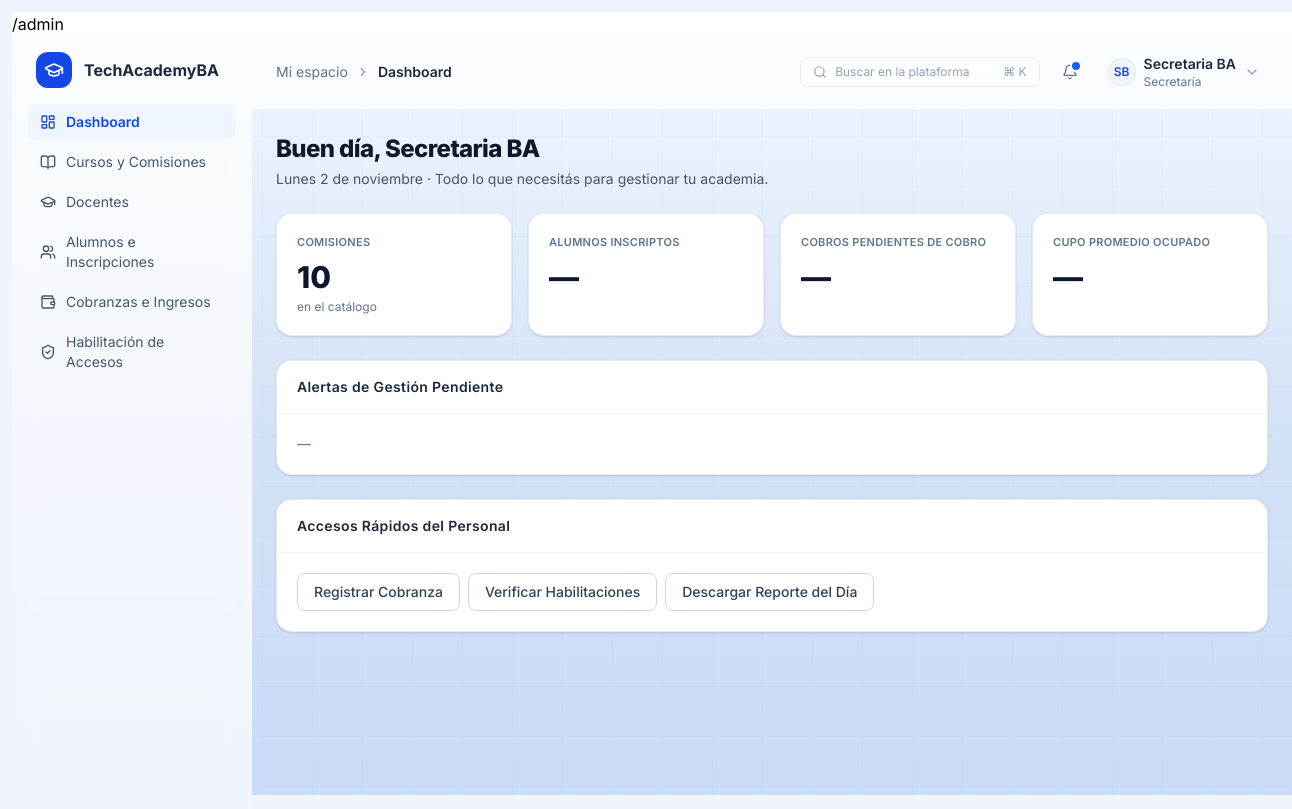
las pantallas de cada shell dibujan con los componentes compartidos › la sección de ADMIN cierra la sesión con el botón compartido del menú de perfil
The width and height of the screenshot is (1292, 809).
Click the button "SB Secretaria BA Secretaría" at (1184, 72), box [1100,48,1268,96]
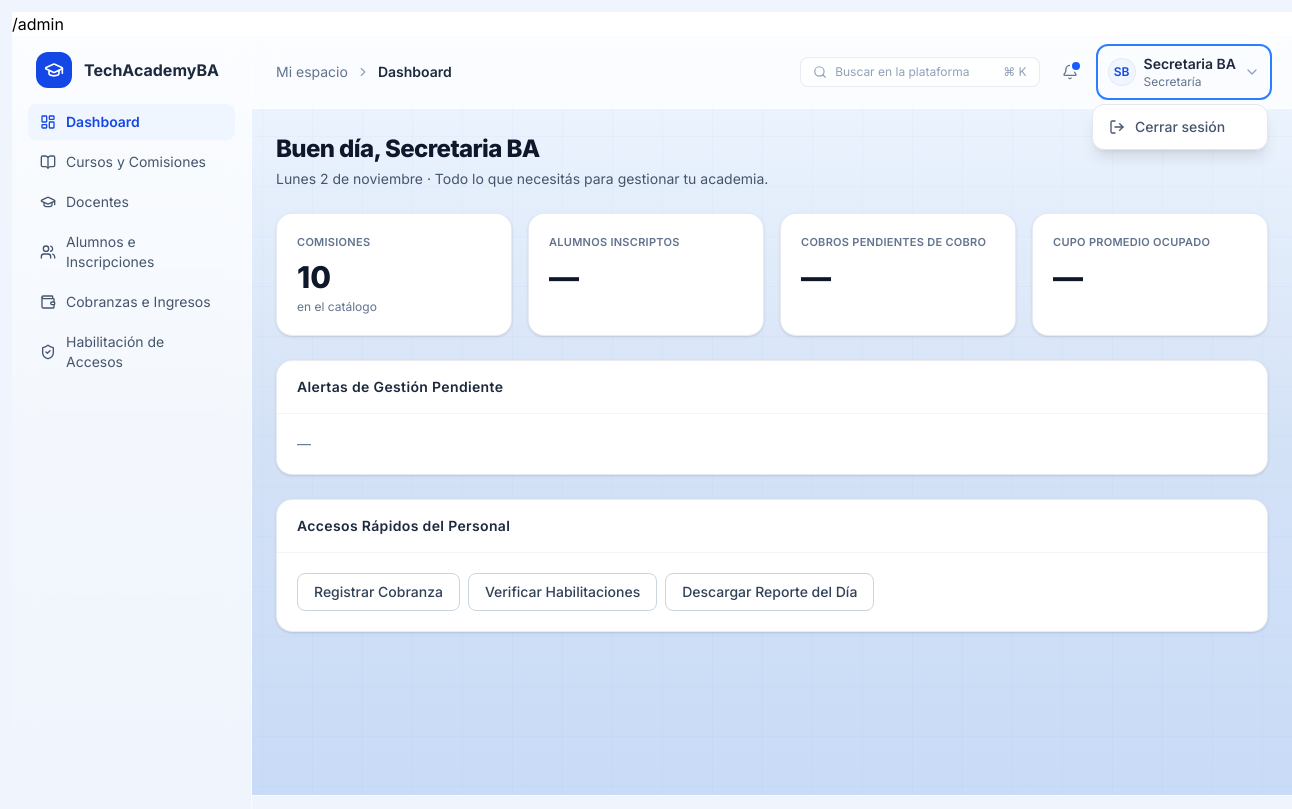
Now the menu item "Cerrar sesión" is shown, box [1093,109,1267,145]
